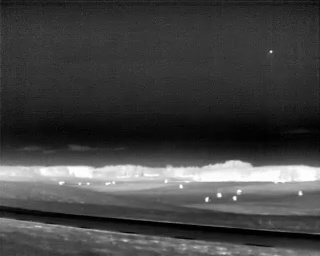BIRD: (267, 47, 275, 57)
